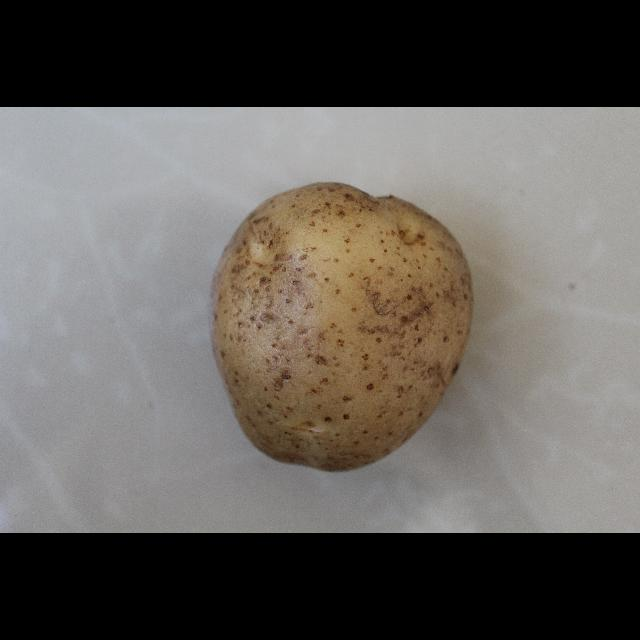Diseased-fungal potato: (207, 176, 475, 477)
